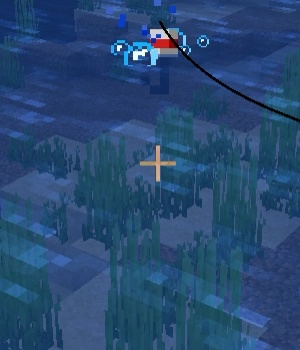up: (139, 23, 186, 98)
